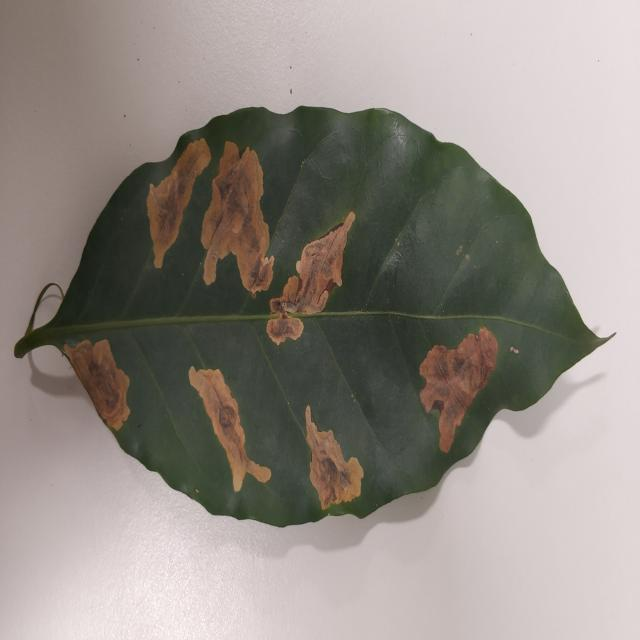Plaga-Minador: (12, 107, 612, 530)
